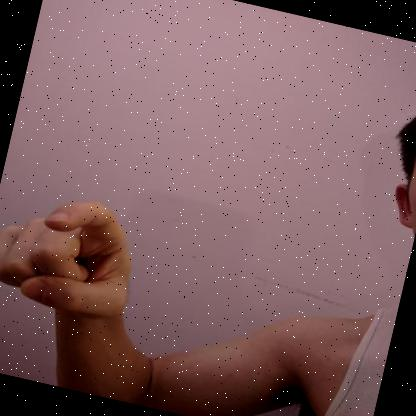Z: (0, 201, 131, 317)
